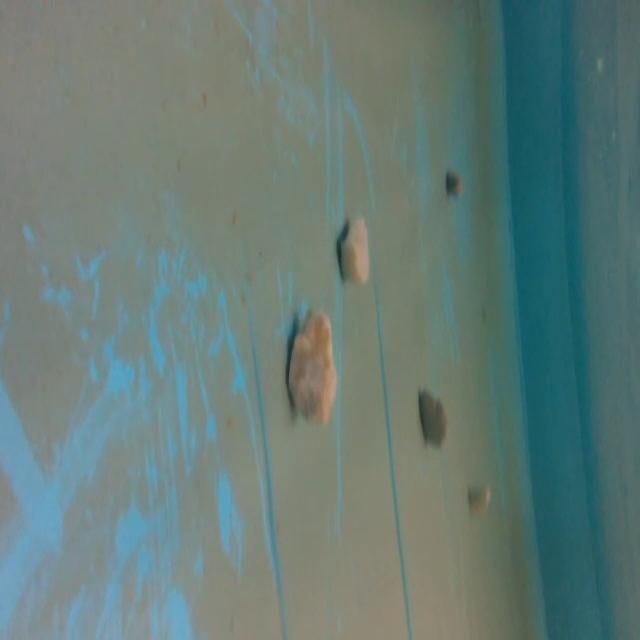rock: (282, 300, 338, 428), (337, 210, 374, 287), (415, 378, 449, 447)
